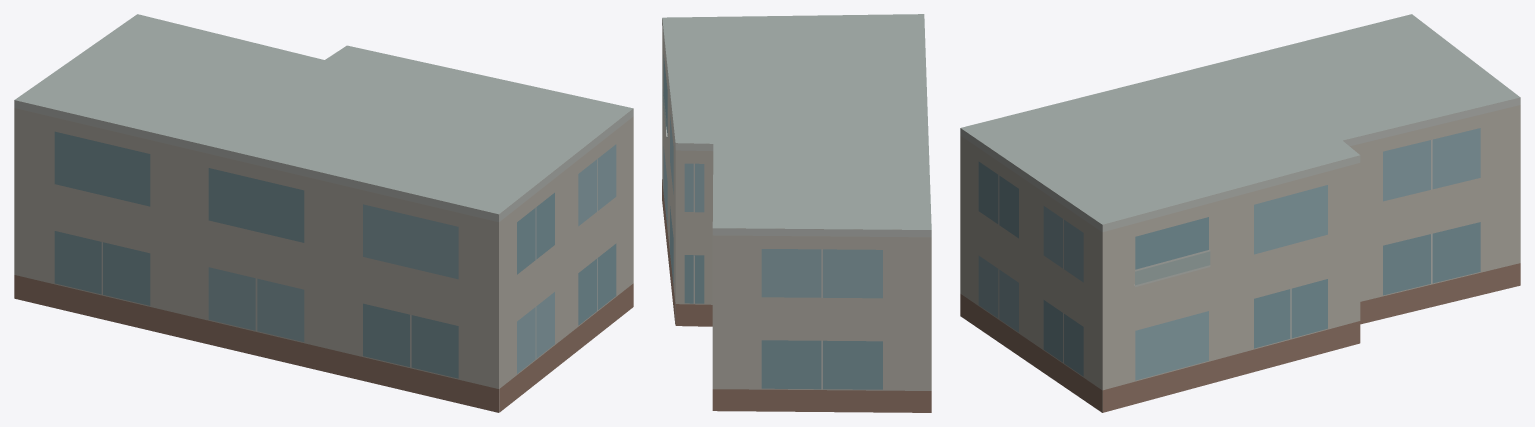
File: survey-upis-32677900.glb
3 views of the same model, side by side, from view 1: azimuth 30°, elevation 25°; view 2: azimuth 150°, elevation 25°; view 3: azimuth 270°, elevation 25° (orthographic). The views are drawn at different scales.
Parts seen in each view (by area): view 1: survey-upis-32677900.tmp; view 2: survey-upis-32677900.tmp; view 3: survey-upis-32677900.tmp.
Part boxes in pixels (<box>): survey-upis-32677900.tmp: <box>14,14,633,412</box>; survey-upis-32677900.tmp: <box>662,14,931,412</box>; survey-upis-32677900.tmp: <box>960,14,1520,412</box>.
Bounding box in the file's own units: 14.67 × 6.1 × 16.48.
